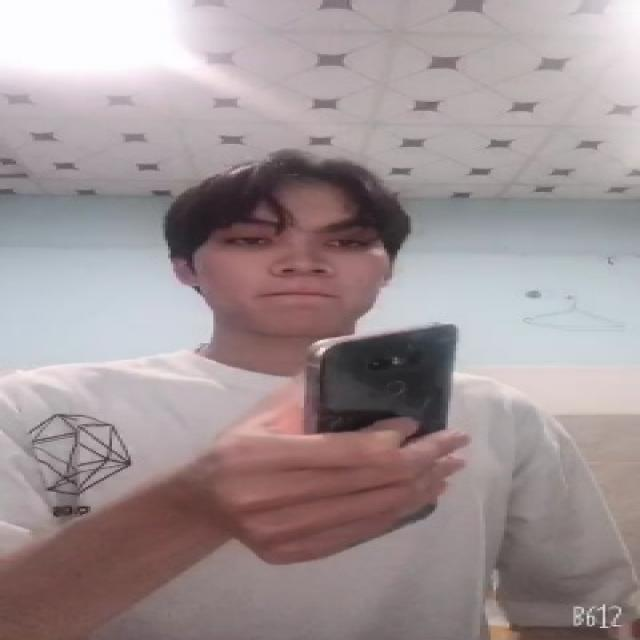Phone: (304, 319, 463, 539)
